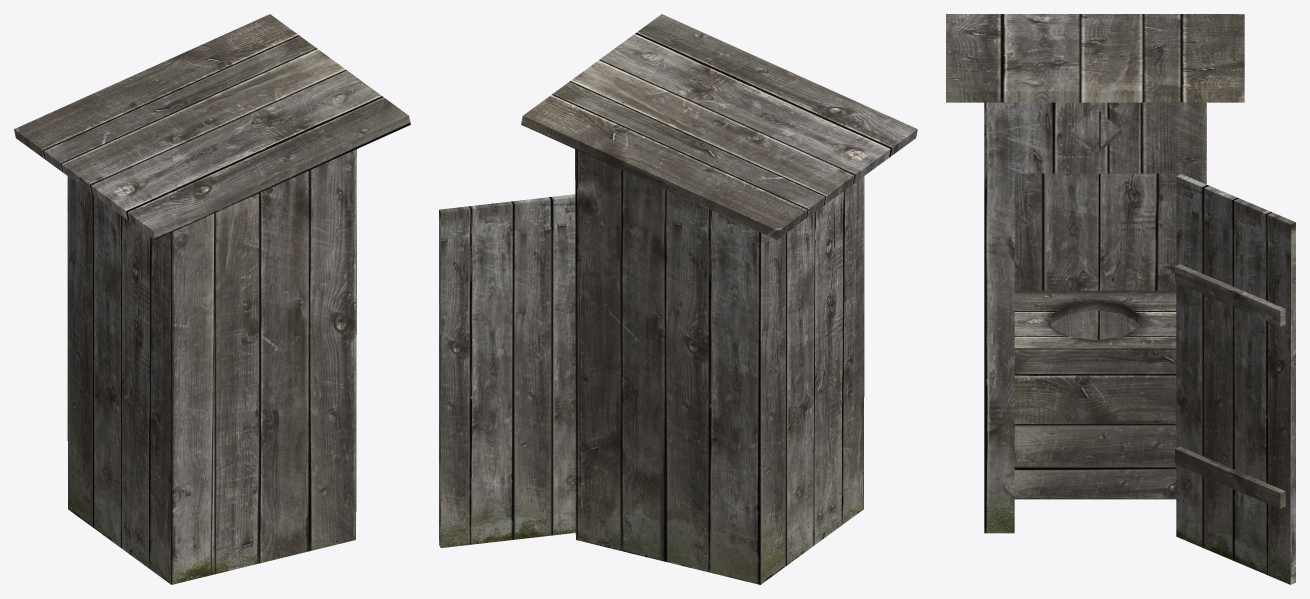
The model's file is toilet.FBX.
3 renders of one model, left to right at view 1: azimuth 30°, elevation 25°; view 2: azimuth 150°, elevation 25°; view 3: azimuth 270°, elevation 25°, orthographic. The views are drawn at different scales.
Parts seen in each view (by area): view 1: toilet; view 2: toilet; view 3: toilet.
Part boxes in pixels (x1,y1,x2,y2): toilet: (14,14,410,584); toilet: (439,14,917,584); toilet: (946,14,1295,584).
Size of the model in its own units: 52.08 by 67.14 by 46.11.
